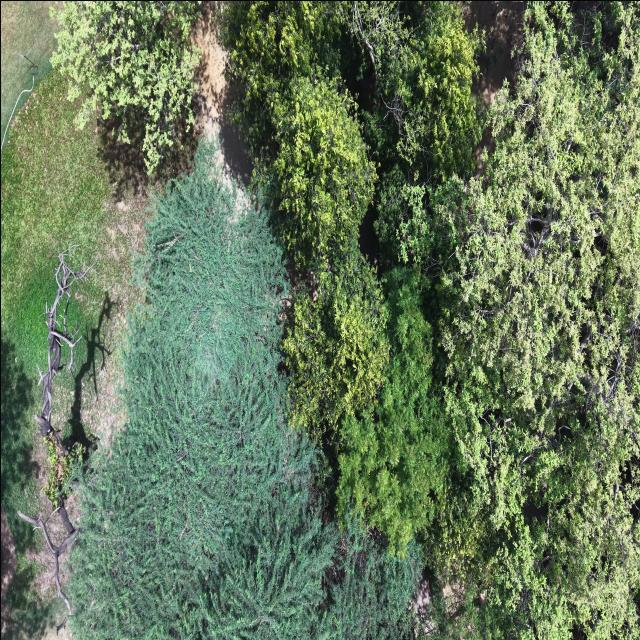DRY_AREA: (53, 137, 161, 447), (54, 187, 149, 446), (53, 190, 148, 447), (53, 194, 147, 448), (194, 9, 251, 184), (1, 1, 56, 136), (465, 1, 526, 106), (465, 1, 525, 107), (466, 1, 525, 105), (1, 509, 16, 602)
VEGETATION_TREE: (69, 1, 639, 639), (224, 3, 639, 638), (70, 144, 420, 639), (223, 3, 480, 554), (424, 4, 639, 638), (223, 3, 388, 440), (1, 74, 128, 626), (266, 78, 388, 435), (342, 1, 482, 262), (1, 73, 110, 376), (337, 268, 451, 552), (17, 250, 92, 612), (343, 1, 480, 185), (52, 1, 199, 172), (283, 240, 389, 440), (267, 78, 375, 268), (221, 1, 342, 162), (1, 337, 38, 611), (1, 1, 56, 147)
